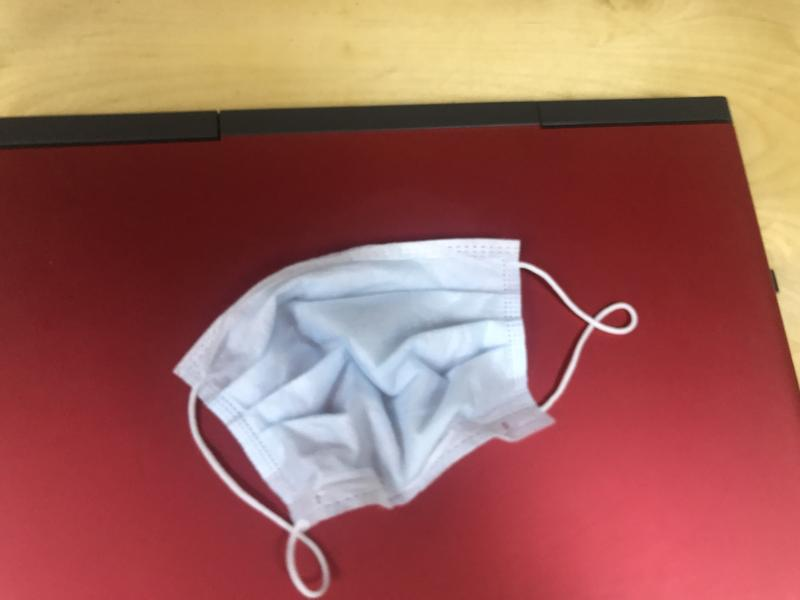medical_mask: (183, 247, 636, 600)
